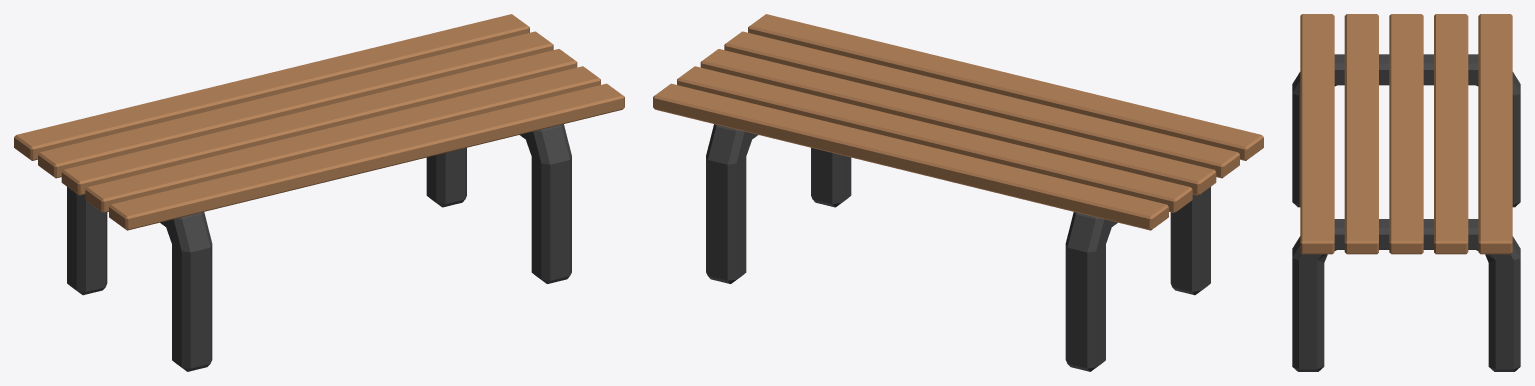
File: bench.fbx
3 renders of one model, left to right at view 1: azimuth 30°, elevation 25°; view 2: azimuth 150°, elevation 25°; view 3: azimuth 270°, elevation 25°, orthographic. The views are drawn at different scales.
Parts seen in each view (by area): view 1: bench; view 2: bench; view 3: bench.
Boxes of the visible parts, bbox=[...] form: bench: bbox=[14, 14, 624, 371]; bench: bbox=[653, 14, 1263, 371]; bench: bbox=[1292, 14, 1520, 371].
Bounding box in the file's own units: 265 × 85.18 × 112.
